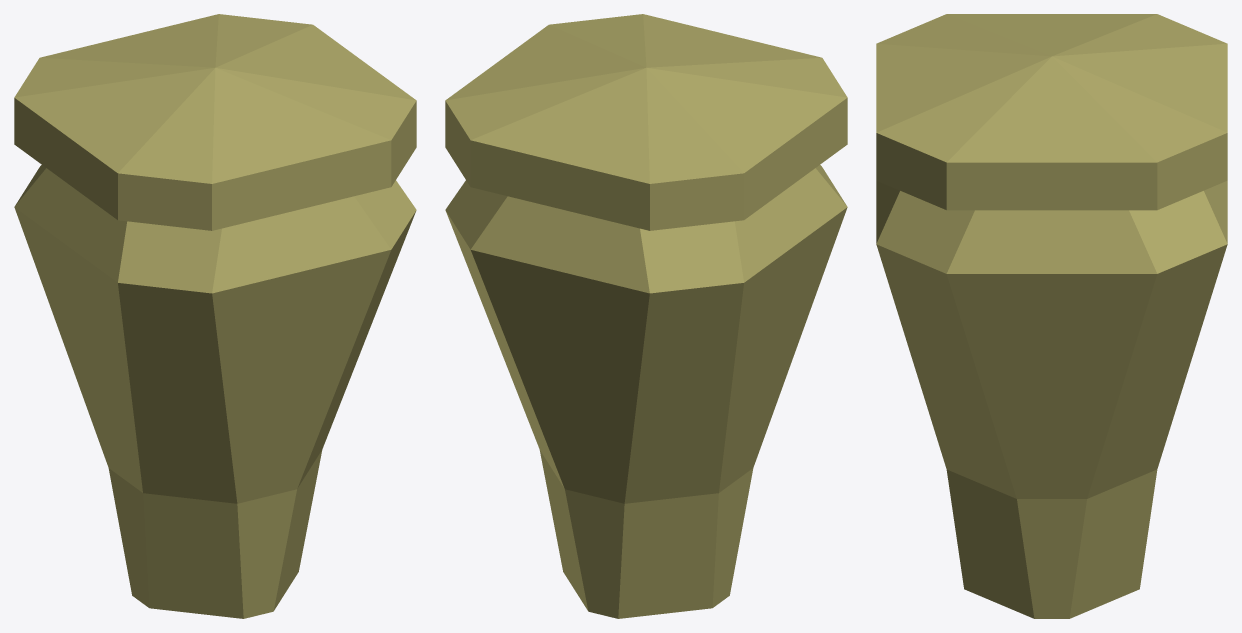
The model's file is obj_basket_1_0.obj.
The picture shows the model from 3 angles, left to right: view 1: azimuth 30°, elevation 25°; view 2: azimuth 150°, elevation 25°; view 3: azimuth 270°, elevation 25°; orthographic projection.
Bounding box in the file's own units: 0.4688 × 0.7734 × 0.4688.
